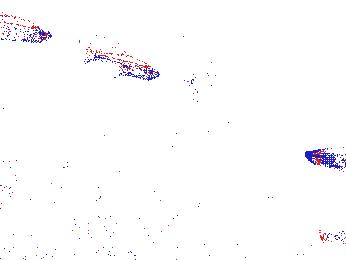redtail glassfish: (78, 45, 160, 83), (1, 11, 56, 49), (301, 146, 346, 175)
